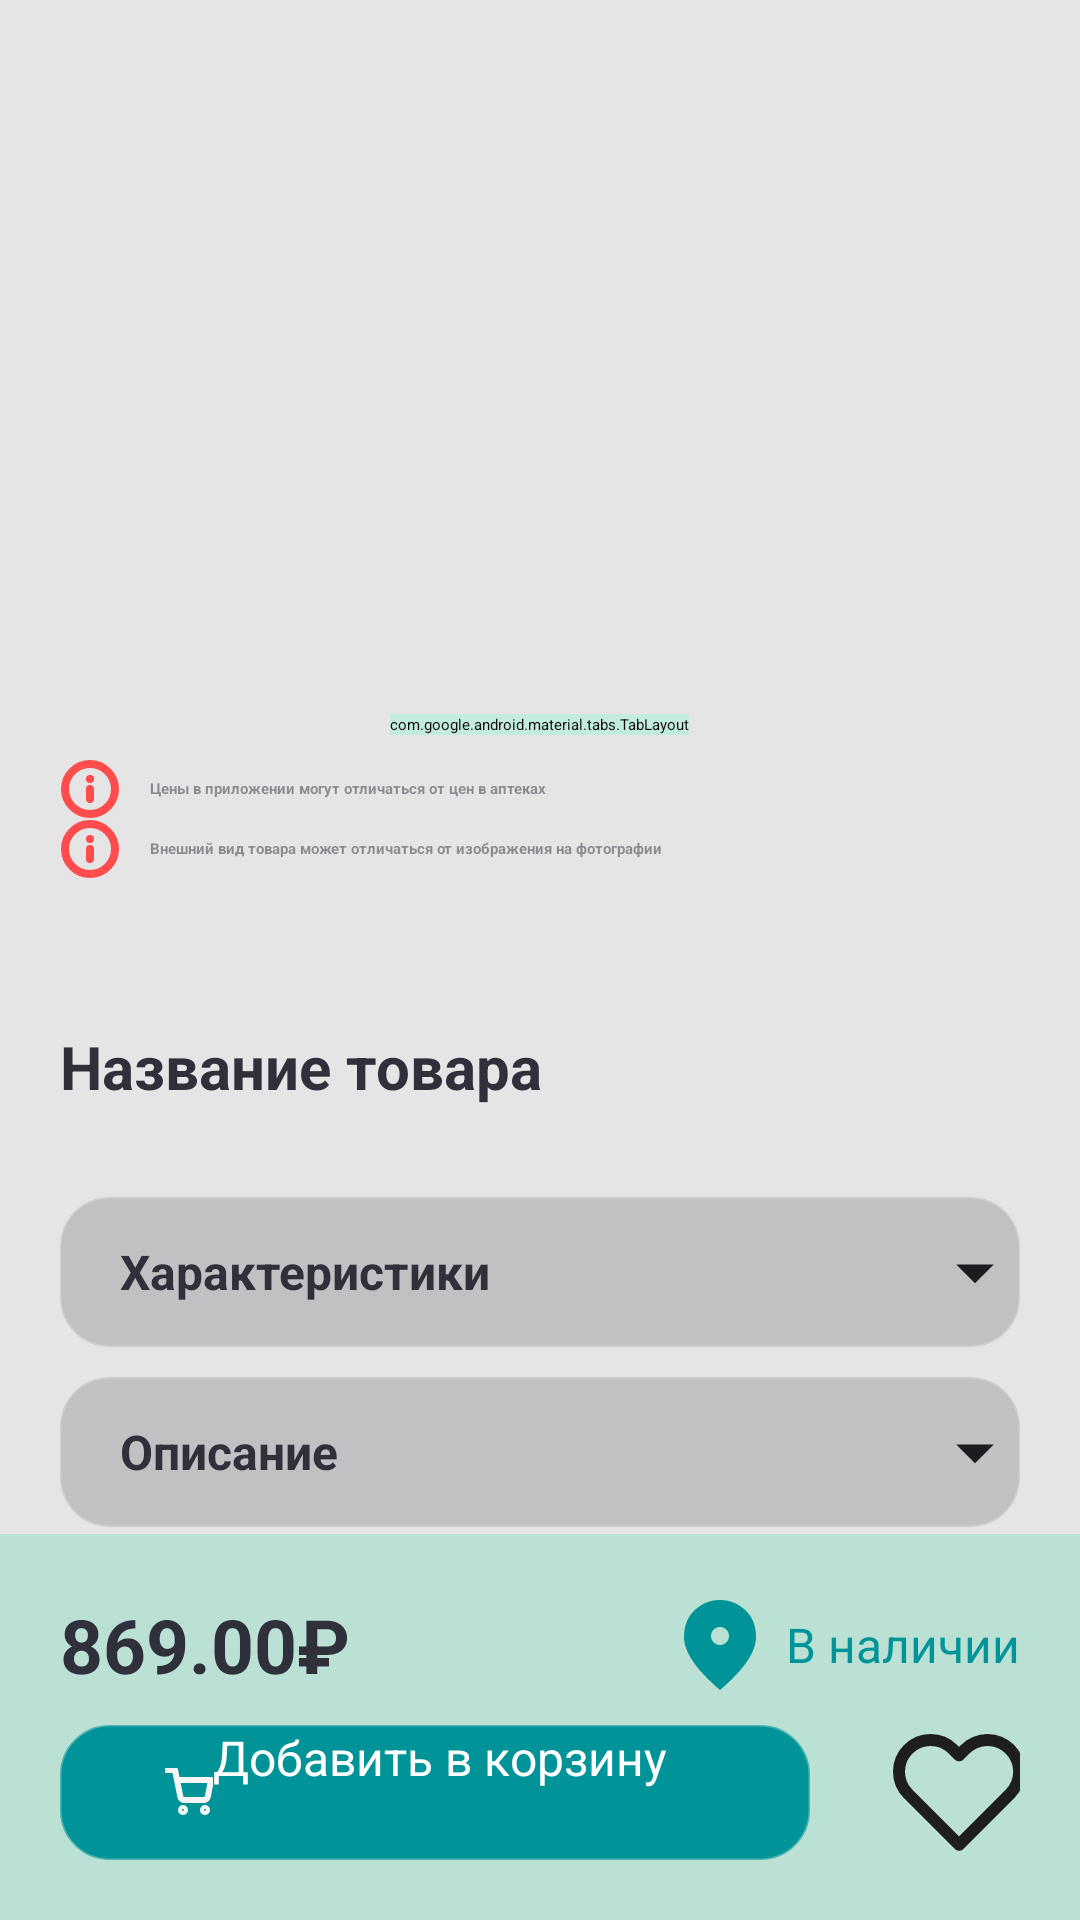

Point at icon controls on the screen. Image size 1080*1920, points as (x=x, y=y).
heart: (x=956, y=1792)
